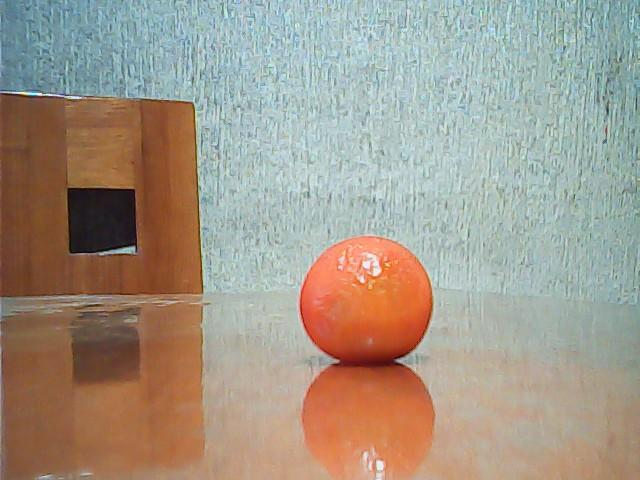maduro: (300, 241, 436, 362)
